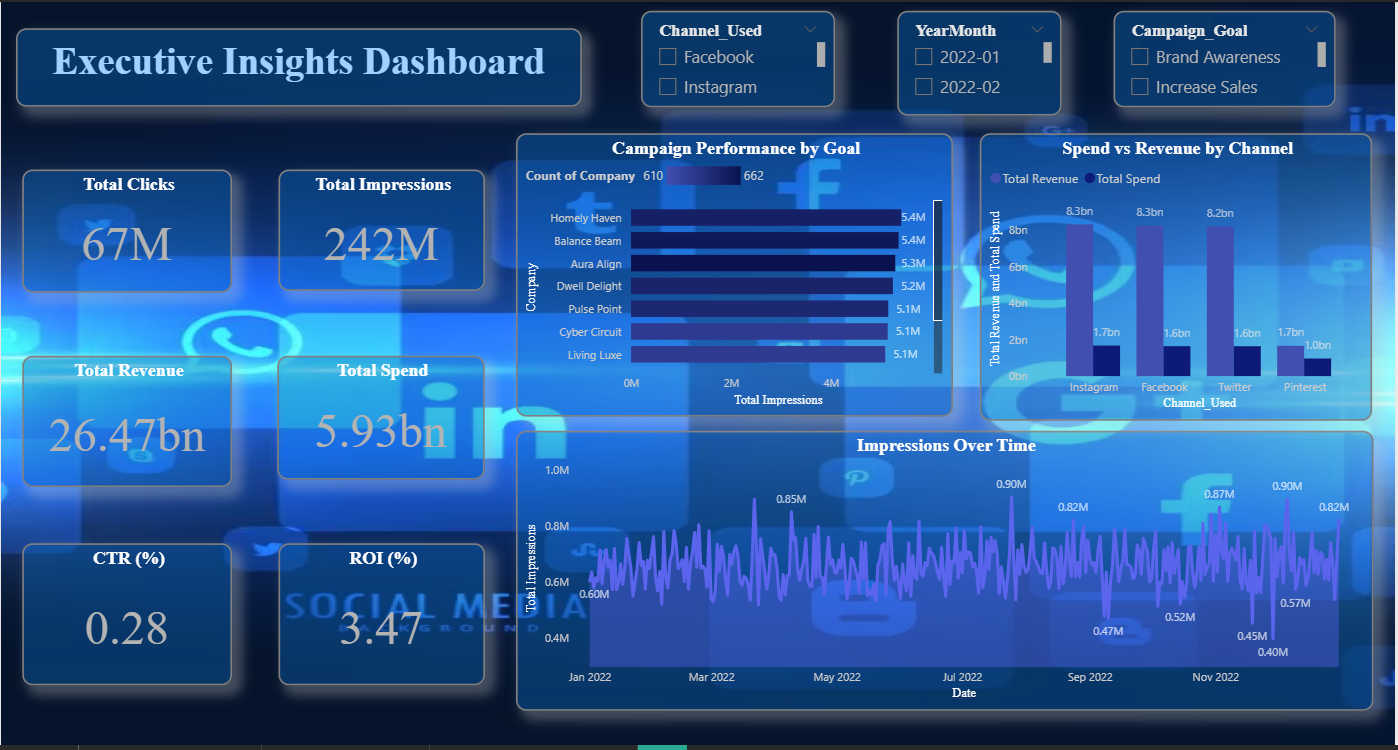

What the dashboard file says about the page in this screenshot:
{"tool":"powerbi","page":{"name":"Executive Overview","canvas":[1350,720],"ordinal":0},"visuals":[{"type":"slicer","fields":{"Values":["Ads.Channel_Used"]},"box":[619.3,8.6,187.6,93.2],"z":0},{"type":"slicer","fields":{"Values":["Ads.Campaign_Goal"]},"box":[1077.3,8.5,215.5,93.2],"z":1000},{"type":"slicer","fields":{"Values":["DateTable.YearMonth"]},"box":[868.3,8.6,159.4,101.8],"z":2000},{"type":"card","title":"Total Impressions","fields":{"Values":["Ads.Total Impressions"]},"box":[268.6,161.9,199.9,117.7],"z":3000},{"type":"card","title":"Total Clicks","fields":{"Values":["Ads.Total Clicks"]},"box":[20.8,161.9,203.6,119],"z":4000},{"type":"card","title":"CTR (%)","fields":{"Values":["Ads.Overall CTR %"]},"box":[20.8,523.7,203.6,137.4],"z":5000},{"type":"card","title":"Total Spend","fields":{"Values":["Ads.Total Spend"]},"box":[267.4,342.2,201.1,120.2],"z":6000},{"type":"card","title":"Total Revenue","fields":{"Values":["Ads.Total Revenue"]},"box":[20.8,342.2,203.6,127.5],"z":7000},{"type":"card","title":"ROI (%)","fields":{"Values":["Ads.Overall ROI %"]},"box":[268.6,523.7,199.9,137.4],"z":8000},{"type":"areaChart","title":"Impressions Over Time","fields":{"Category":["Ads.Date"],"Y":["Ads.Total Impressions"]},"box":[499.1,415.7,830.3,271],"z":9000},{"type":"clusteredBarChart","title":"Campaign Performance by Goal","fields":{"Category":["Ads.Company"],"Y":["Ads.Total Impressions"]},"box":[499.1,127.5,423.1,274.7],"z":10000},{"type":"clusteredColumnChart","title":"Spend vs Revenue by Channel","fields":{"Category":["Ads.Channel_Used"],"Y":["Ads.Total Revenue","Ads.Total Spend"]},"box":[948,127.5,380.2,278.4],"z":11000},{"type":"textbox","box":[14.7,25.8,548.2,76],"z":12000}]}

Visuals, with their boxes in screenshot pixels (x1, y1, x2, y2), scaled from the page's 1350x720 canvas onto the 1398x750 screenshot:
slicer - Ads.Channel_Used: [x1=641, y1=9, x2=836, y2=106]
slicer - Ads.Campaign_Goal: [x1=1116, y1=9, x2=1339, y2=106]
slicer - DateTable.YearMonth: [x1=899, y1=9, x2=1064, y2=115]
"Total Impressions" card: [x1=278, y1=169, x2=485, y2=291]
"Total Clicks" card: [x1=22, y1=169, x2=232, y2=293]
"CTR (%)" card: [x1=22, y1=546, x2=232, y2=689]
"Total Spend" card: [x1=277, y1=356, x2=485, y2=482]
"Total Revenue" card: [x1=22, y1=356, x2=232, y2=489]
"ROI (%)" card: [x1=278, y1=546, x2=485, y2=689]
"Impressions Over Time" areaChart: [x1=517, y1=433, x2=1377, y2=715]
"Campaign Performance by Goal" clusteredBarChart: [x1=517, y1=133, x2=955, y2=419]
"Spend vs Revenue by Channel" clusteredColumnChart: [x1=982, y1=133, x2=1375, y2=423]
textbox: [x1=15, y1=27, x2=583, y2=106]
